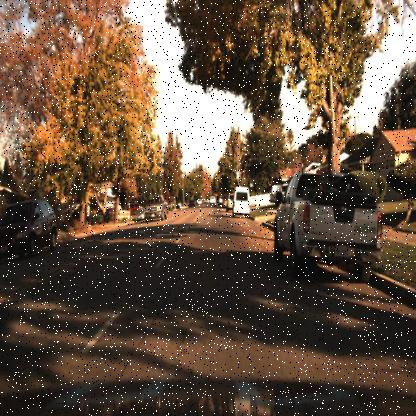car: (262, 164, 388, 297), (273, 162, 385, 280), (0, 198, 58, 260), (144, 192, 168, 226), (230, 184, 252, 221), (233, 182, 250, 216), (269, 179, 287, 207), (268, 175, 280, 210), (225, 190, 236, 216), (220, 190, 228, 215)
